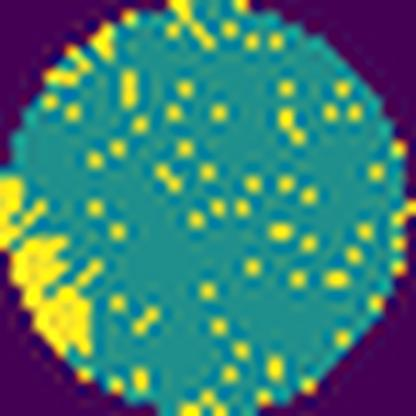Edge-Loc: (0, 173, 99, 360)
